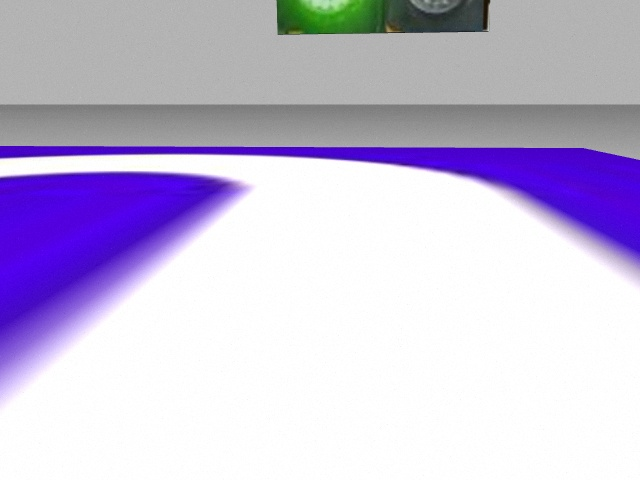green: (277, 1, 384, 34)
